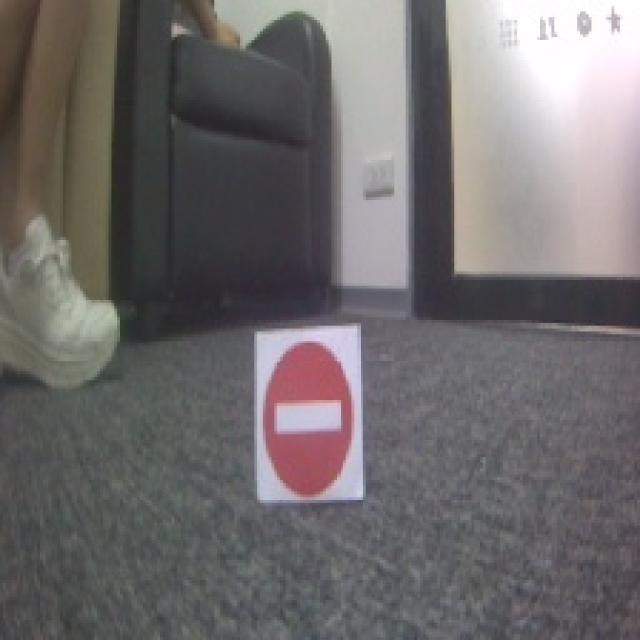DoNotEnterSign: (265, 338, 355, 501)
